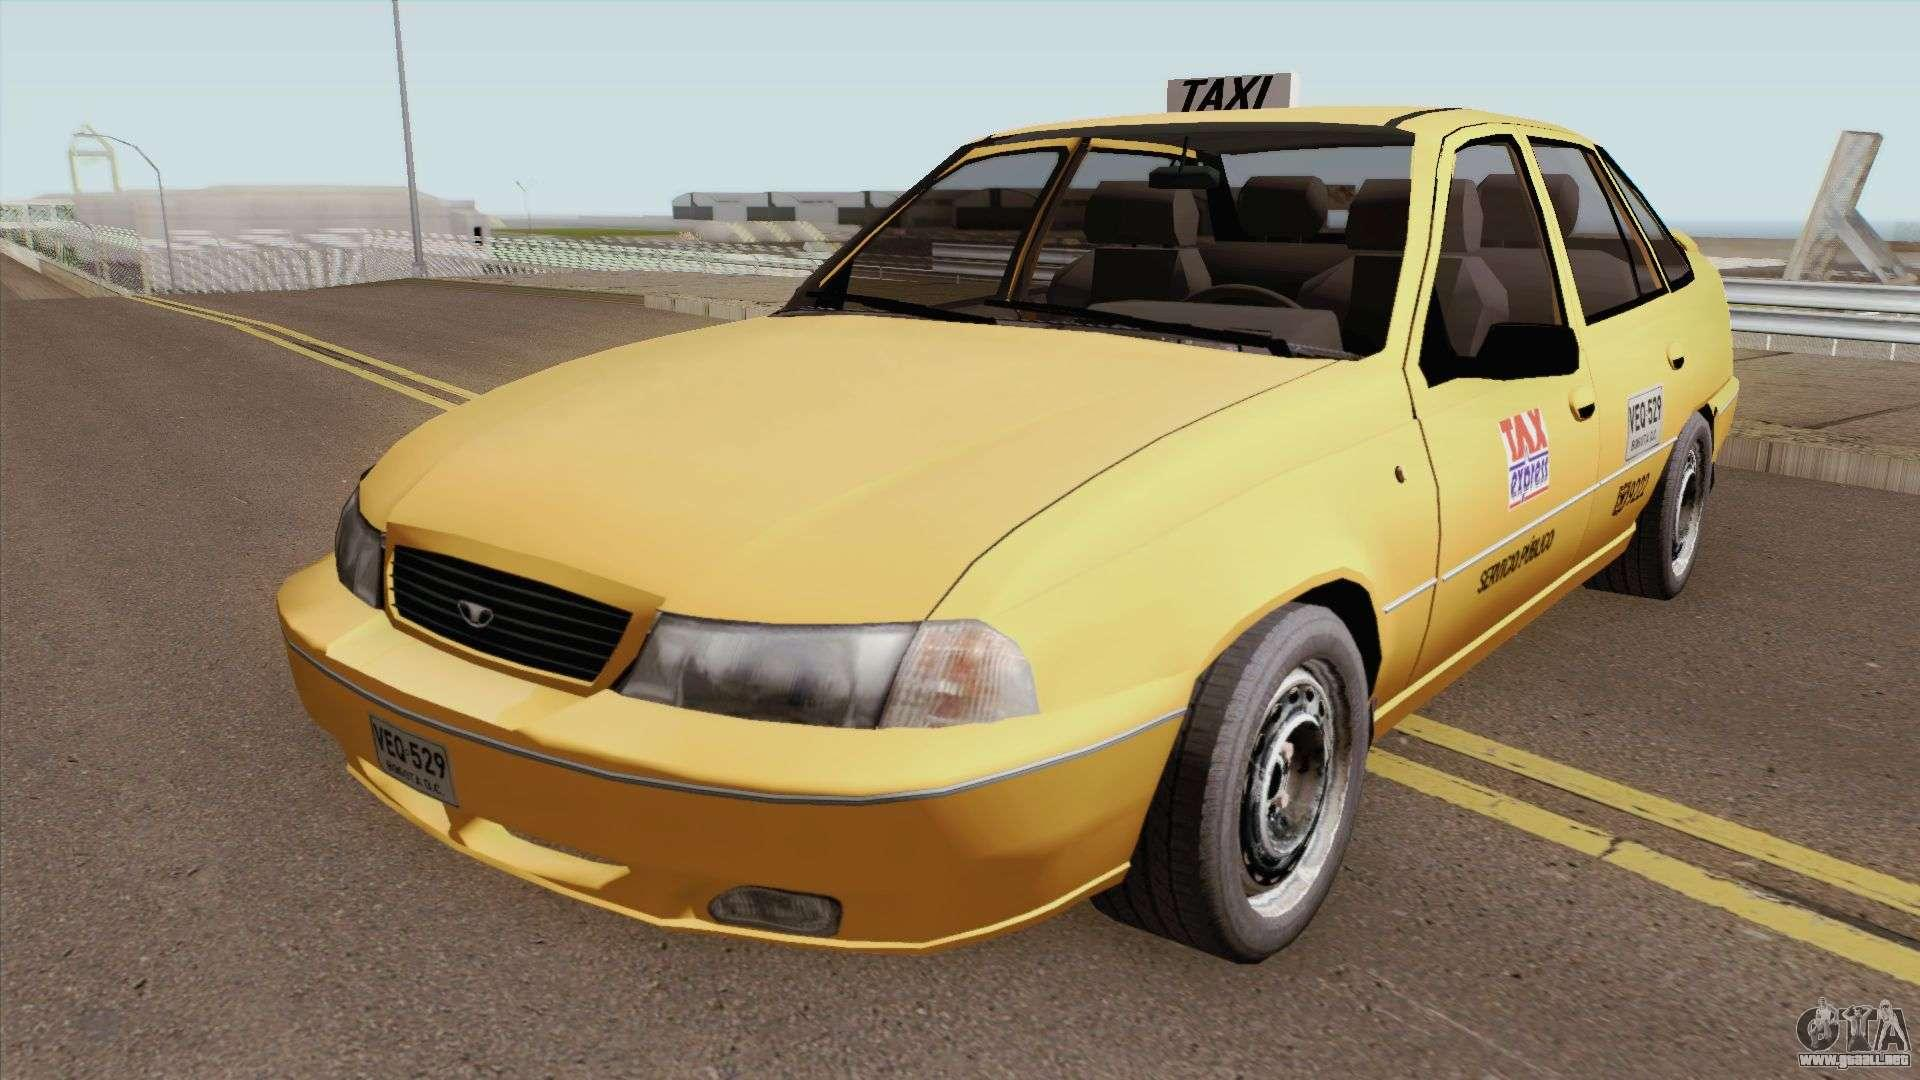taxi: (285, 53, 1834, 953)
